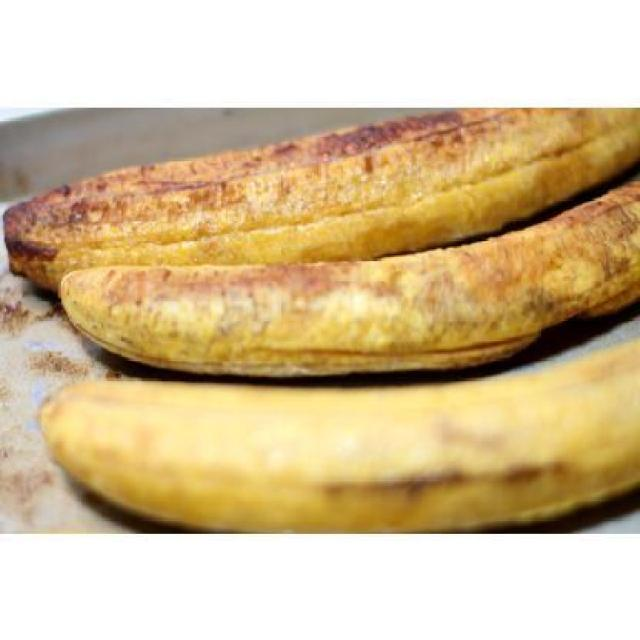Banana: (36, 333, 638, 532), (1, 106, 638, 292), (58, 176, 638, 375)
